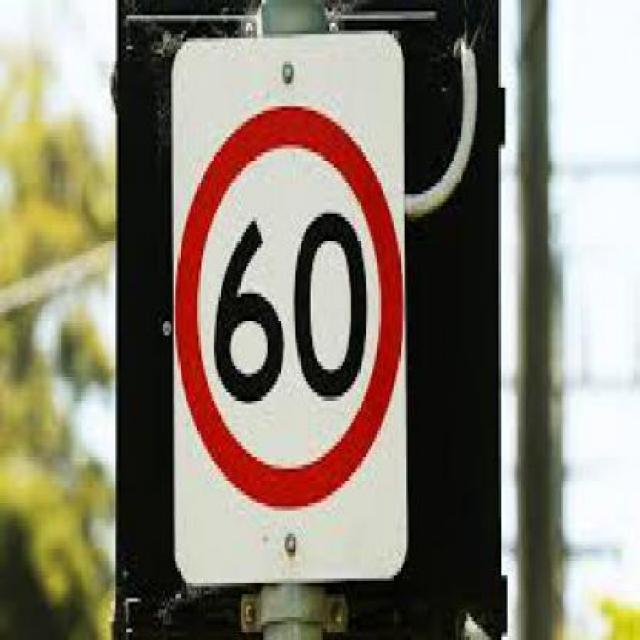speed_limit_60: (182, 111, 403, 495)
